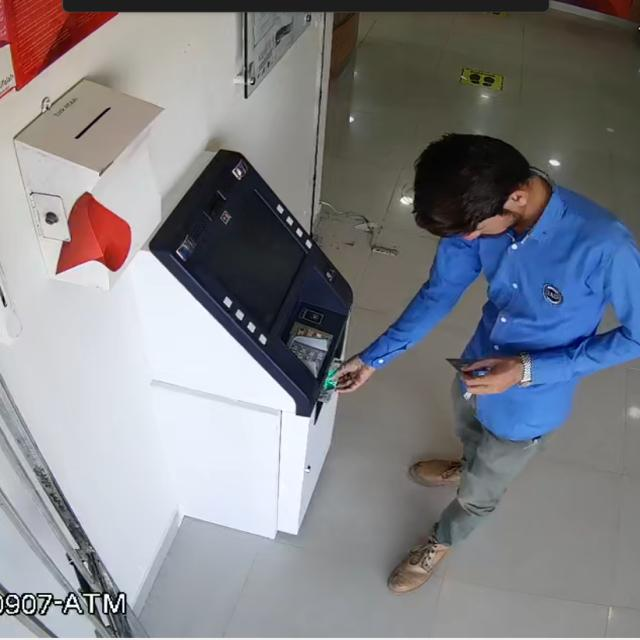note: (310, 349, 353, 412)
